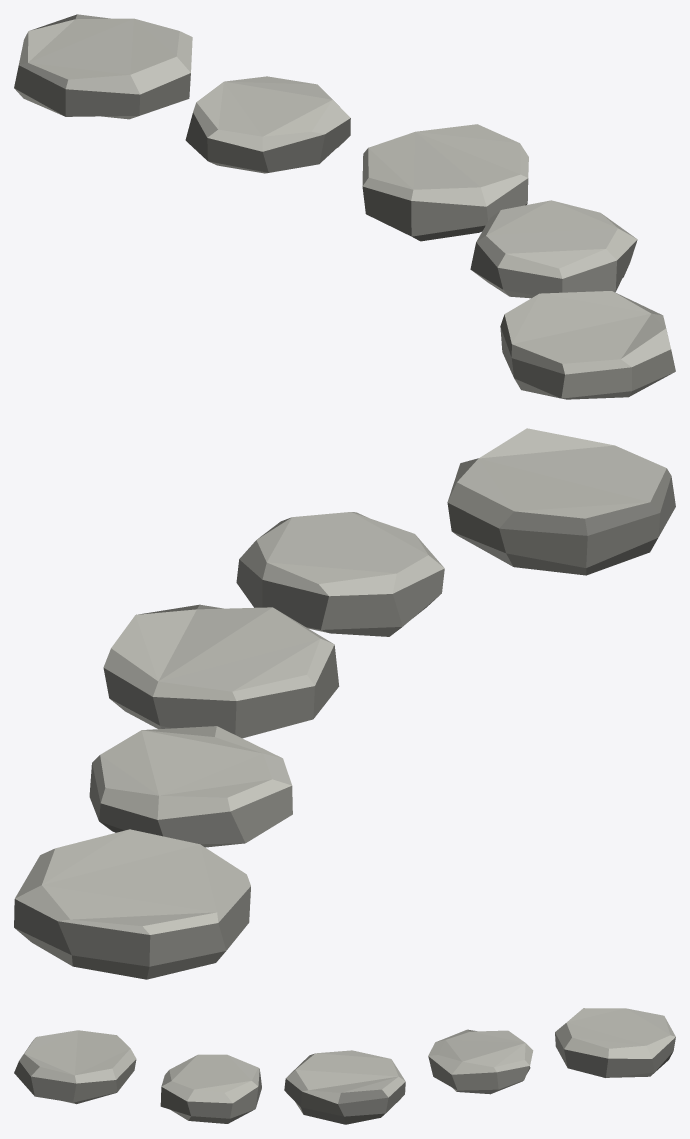
Rendered from SteppingStones.fbx.
3 views of the same model, one above another, from view 1: azimuth 30°, elevation 25°; view 2: azimuth 150°, elevation 25°; view 3: azimuth 270°, elevation 25° (orthographic). The views are drawn at different scales.
Parts seen in each view (by area): view 1: SteppingStones; view 2: SteppingStones; view 3: SteppingStones.
Part boxes in pixels (x1,y1,x2,y2): SteppingStones: (14, 14, 675, 399); SteppingStones: (14, 428, 675, 979); SteppingStones: (14, 1008, 675, 1124).
Bounding box in the file's own units: 3.02 × 0.4959 × 8.8.
1 material, 1 textured.
